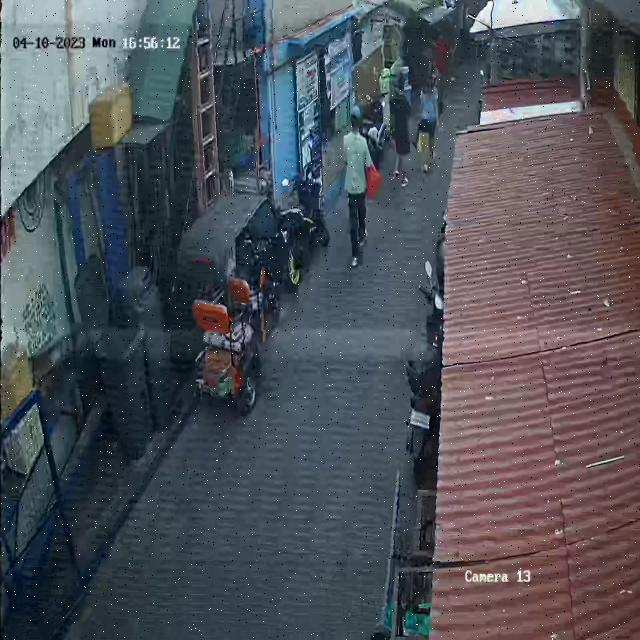human: (342, 104, 380, 266), (418, 74, 441, 178)
